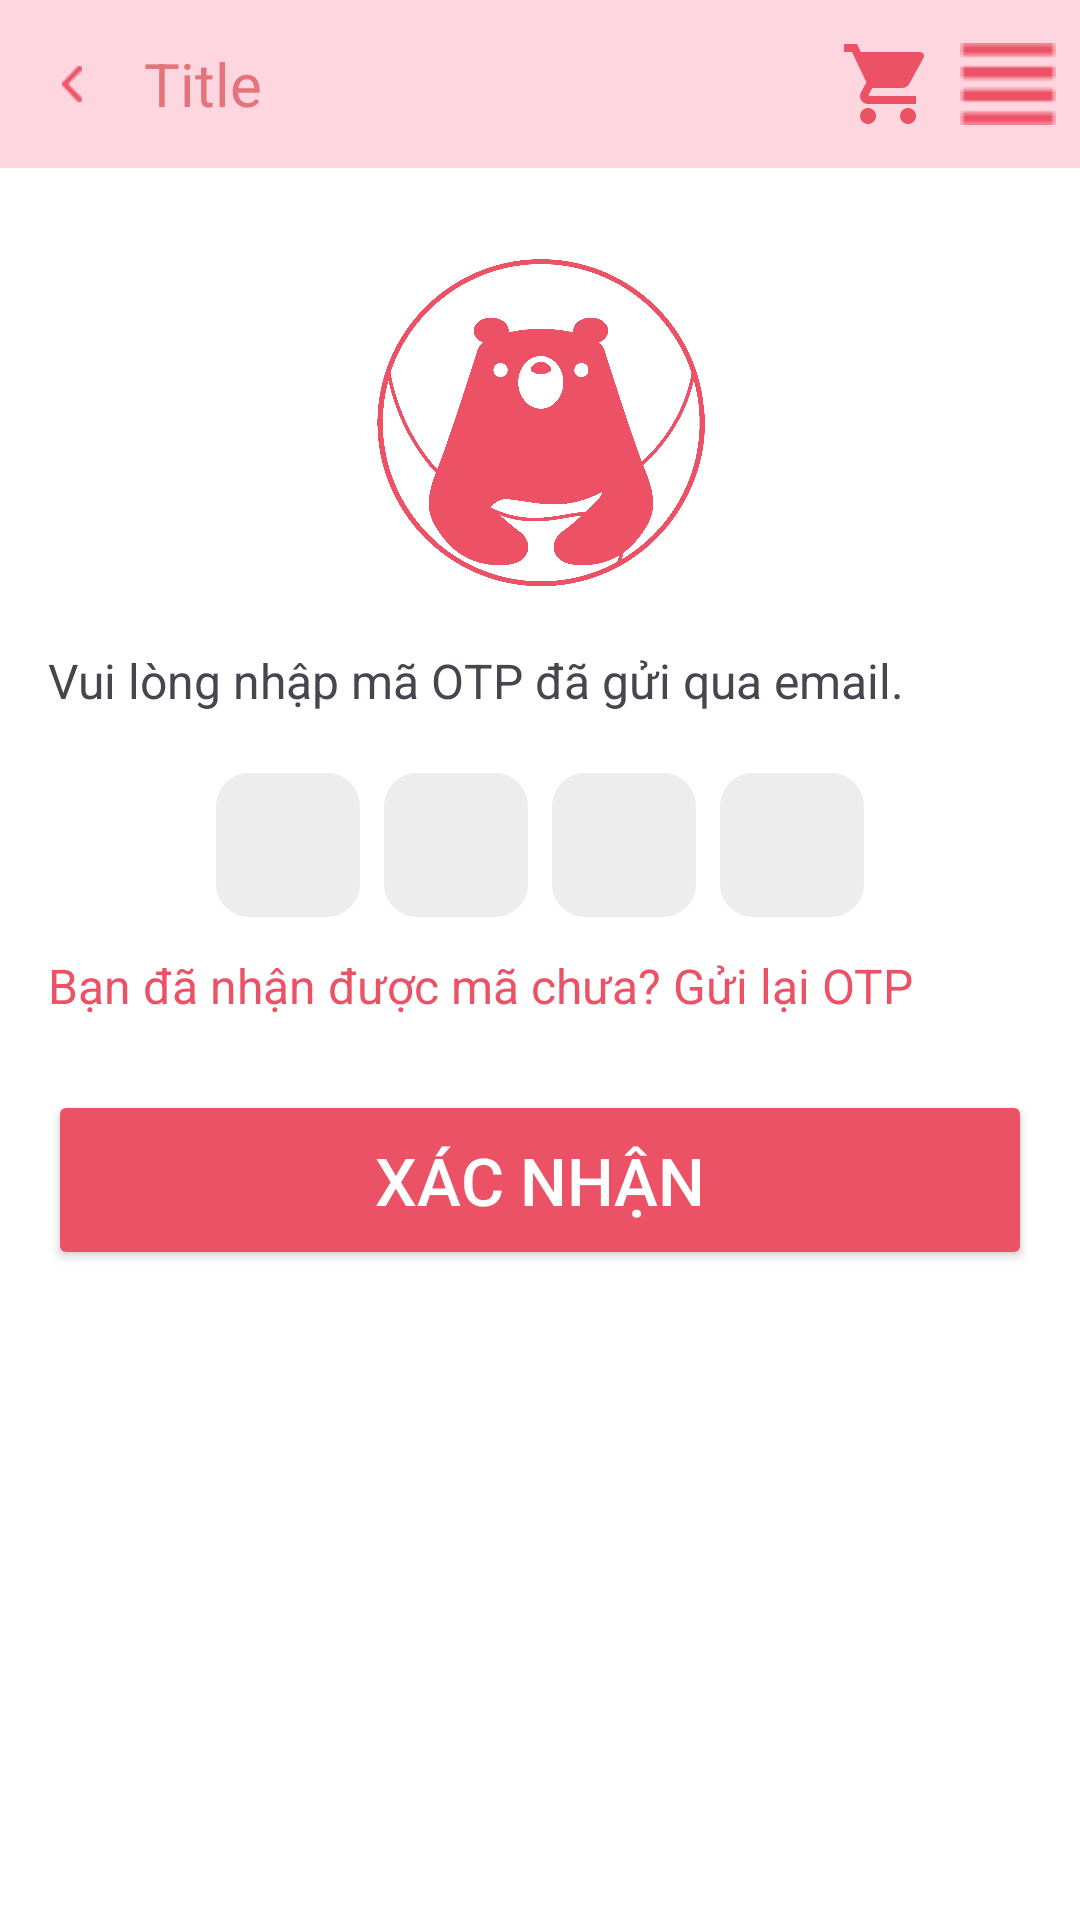

Screen size 1080×1920. Icon name, then its box in pixels as {"left": x1, "top": y1, "right": x2, "bottom": y2}:
back: {"left": 62, "top": 66, "right": 82, "bottom": 102}
cart: {"left": 844, "top": 44, "right": 924, "bottom": 124}
menu: {"left": 960, "top": 43, "right": 1056, "bottom": 125}
